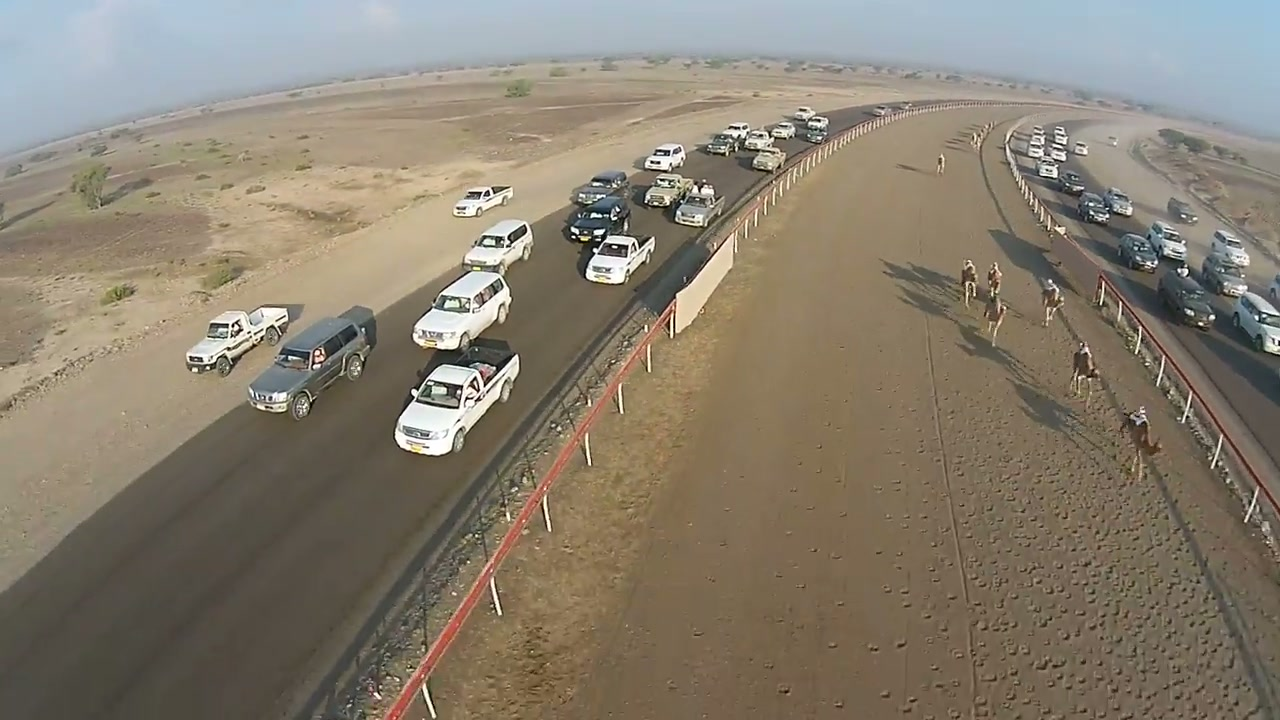animal_footprint: (940, 391, 1270, 713)
